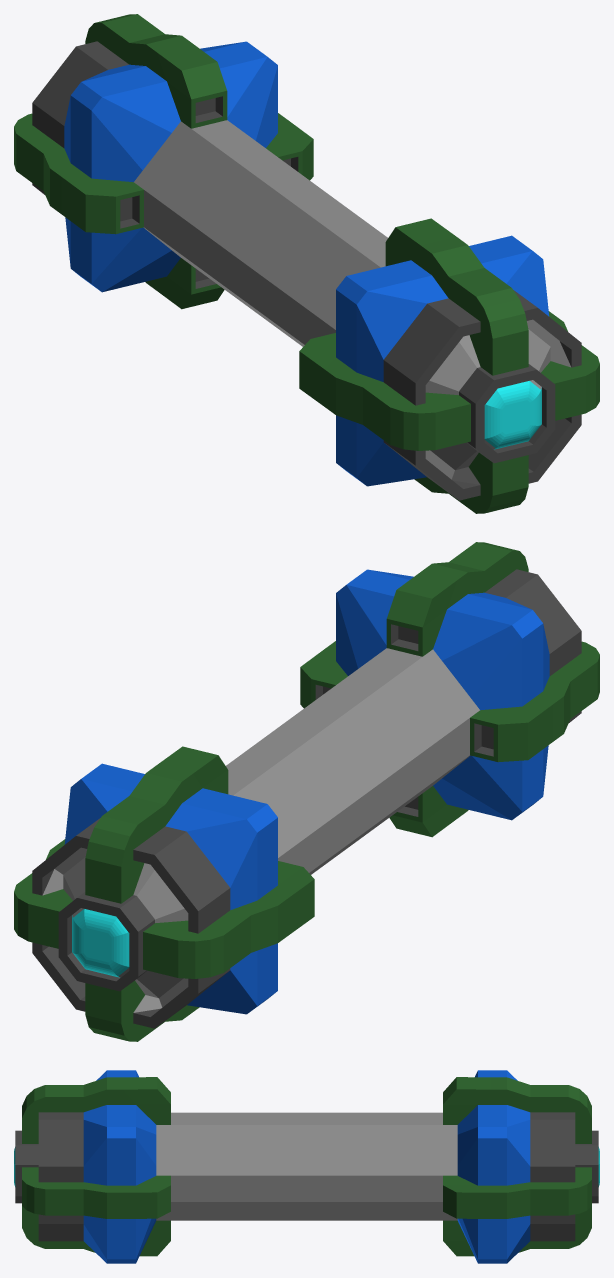
File: Wagon.fbx
3 renders of one model, top to bottom at view 1: azimuth 30°, elevation 25°; view 2: azimuth 150°, elevation 25°; view 3: azimuth 270°, elevation 25°, orthographic. The views are drawn at different scales.
Visible parts, largest first — view 1: Ship.001; view 2: Ship.001; view 3: Ship.001.
Part boxes in pixels (left/top/right/bottom): Ship.001: left=14, top=14, right=599, bottom=513; Ship.001: left=14, top=542, right=599, bottom=1041; Ship.001: left=14, top=1070, right=599, bottom=1263.
Size of the model in its own units: 2.34 by 2.34 by 7.44.
